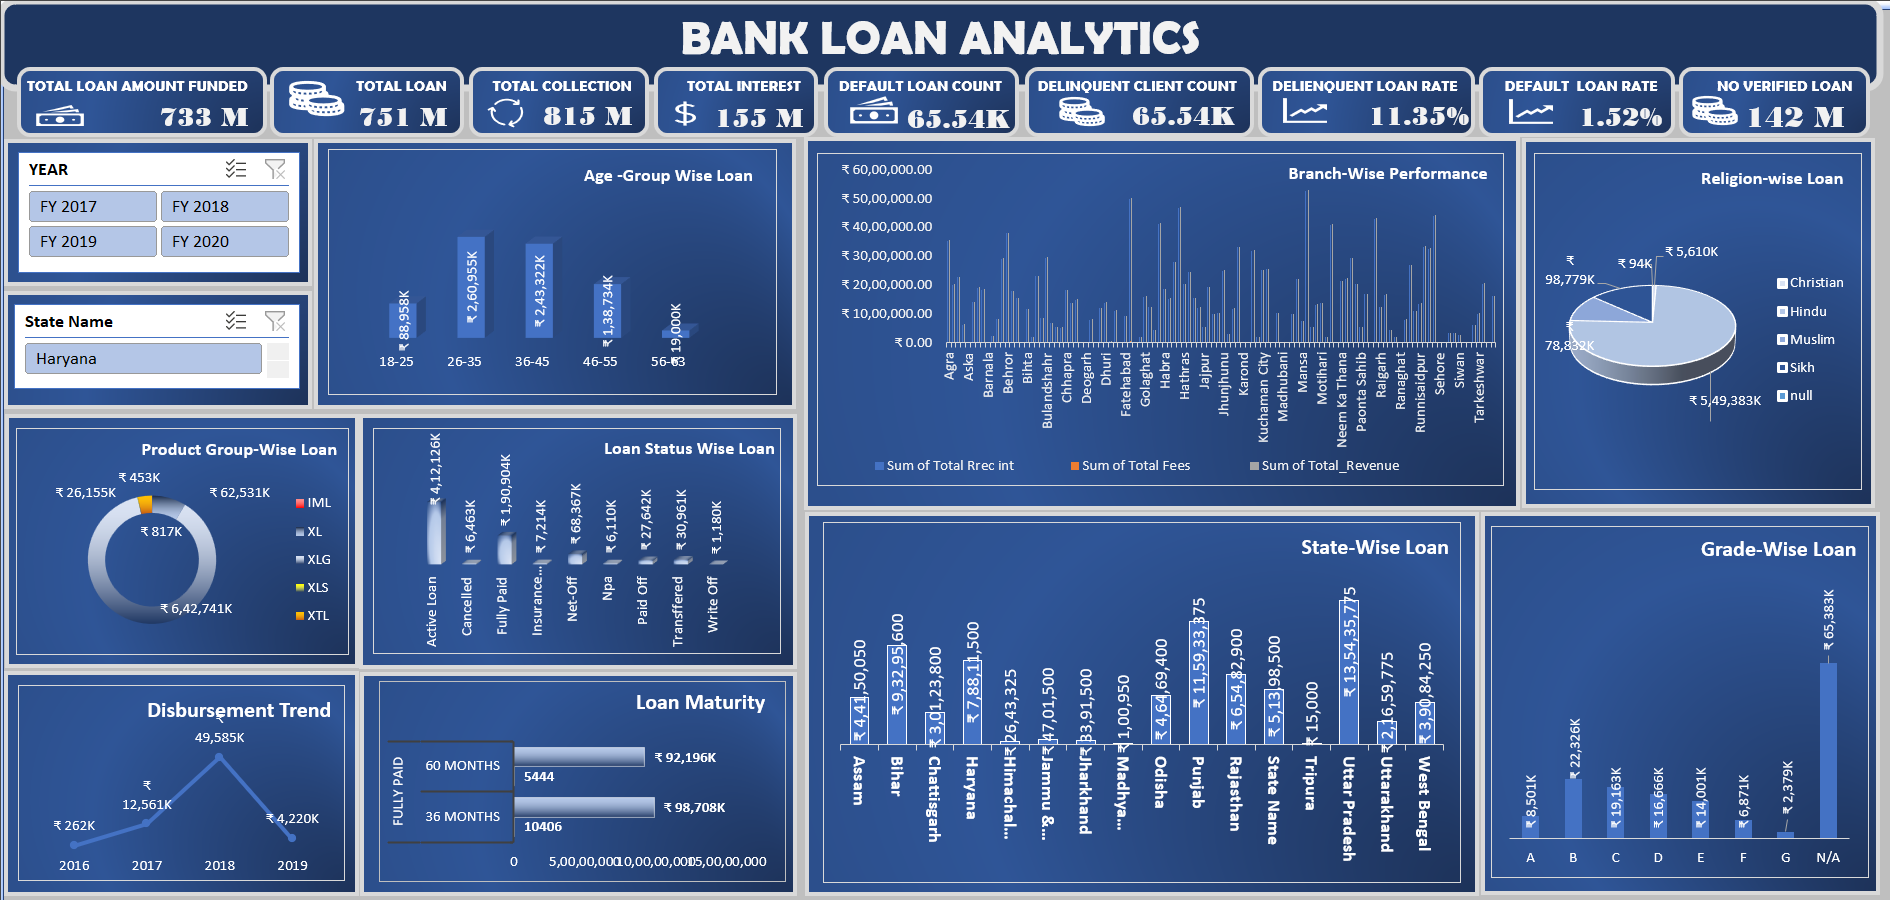

This screenshot's page, from the dashboard's own definition file:
{"tool":"tableau","page":{"name":"Dashboard 1","canvas":[1000,1000],"units":"permille","ordinal":0},"visuals":[{"type":"title","box":[4.8,10,897.4,64.9]},{"type":"filter","title":"State-Wise Performance","param":"[federated.1kfujmh1aarebc15erkji1qe8vi7].[none:State_Name:nk]","box":[902.2,10,92.9,299.6]},{"type":"worksheet","title":"Total loan amount funded","mark":"Text","box":[4.8,79.2,159.7,99.3]},{"type":"worksheet","title":"Total Collection","mark":"Automatic","box":[164.6,79.2,139.4,99.3]},{"type":"worksheet","title":"Total Loans","mark":"Automatic","box":[304,79.2,163,99.3]},{"type":"worksheet","title":"No Verified Loans","mark":"Automatic","box":[466.9,79.2,145.1,99.3]},{"type":"worksheet","title":"Default Loan Count","mark":"Automatic","box":[612,79.2,145.1,99.3]},{"type":"worksheet","title":"Total Interest","mark":"Automatic","box":[757.1,79.2,145.1,99.3]},{"type":"worksheet","title":"Religion-Wise Loan Distribution","mark":"Pie","box":[4.8,178.5,278.8,320.3]},{"type":"worksheet","title":"Loan Status-Wise Loan","mark":"Circle","rows":["Calculation_873416870375927813","Calculation_873416870375940103"],"box":[283.7,178.5,253.4,320.3]},{"type":"worksheet","title":"Product Group-Wise Loan","mark":"Bar","rows":["Loan_Amount"],"cols":["Purpose_Category"],"box":[537.1,178.5,365.2,320.3]},{"type":"filter","title":"Disbursement Trend","param":"[federated.1kfujmh1aarebc15erkji1qe8vi7].[mn:Disbursement_Date:qk]","box":[902.2,309.6,92.9,91.1]},{"type":"filter","title":"Loan Status-Wise Loan","param":"[federated.1kfujmh1aarebc15erkji1qe8vi7].[none:Loan_Status:nk]","box":[902.2,400.8,92.9,299.6]},{"type":"worksheet","title":"State-Wise Performance","mark":"Automatic","rows":["State_Name"],"cols":["Total_Fees"],"box":[4.8,498.8,286.4,491.2]},{"type":"worksheet","title":"State-Wise Loan Distribution","mark":"Automatic","box":[291.2,498.8,250.2,491.2]},{"type":"worksheet","title":"Disbursement Trend","mark":"Automatic","rows":["Loan_Amount"],"cols":["Disbursement_Date"],"box":[541.4,498.8,360.8,491.2]},{"type":"filter","title":"State-Wise Performance","param":"[federated.1kfujmh1aarebc15erkji1qe8vi7].[none:Grade:nk]","box":[902.2,700.4,92.9,289.6]}]}

Visuals, with their boxes on the dashboard's canvas, which has no fixed pixel size, in thousandths of its width and height (x1, y1, x2, y2). These are canvas units, not pixel positions in the 1890x900 screenshot, which may show the page scaled, cropped or inside an application window:
title: select_region(5, 10, 902, 75)
"State-Wise Performance" filter: select_region(902, 10, 995, 310)
"Total loan amount funded" worksheet (Text marks): select_region(5, 79, 164, 178)
"Total Collection" worksheet: select_region(165, 79, 304, 178)
"Total Loans" worksheet: select_region(304, 79, 467, 178)
"No Verified Loans" worksheet: select_region(467, 79, 612, 178)
"Default Loan Count" worksheet: select_region(612, 79, 757, 178)
"Total Interest" worksheet: select_region(757, 79, 902, 178)
"Religion-Wise Loan Distribution" worksheet (Pie marks): select_region(5, 178, 284, 499)
"Loan Status-Wise Loan" worksheet (Circle marks): select_region(284, 178, 537, 499)
"Product Group-Wise Loan" worksheet (Bar marks): select_region(537, 178, 902, 499)
"Disbursement Trend" filter: select_region(902, 310, 995, 401)
"Loan Status-Wise Loan" filter: select_region(902, 401, 995, 700)
"State-Wise Performance" worksheet: select_region(5, 499, 291, 990)
"State-Wise Loan Distribution" worksheet: select_region(291, 499, 541, 990)
"Disbursement Trend" worksheet: select_region(541, 499, 902, 990)
"State-Wise Performance" filter: select_region(902, 700, 995, 990)
